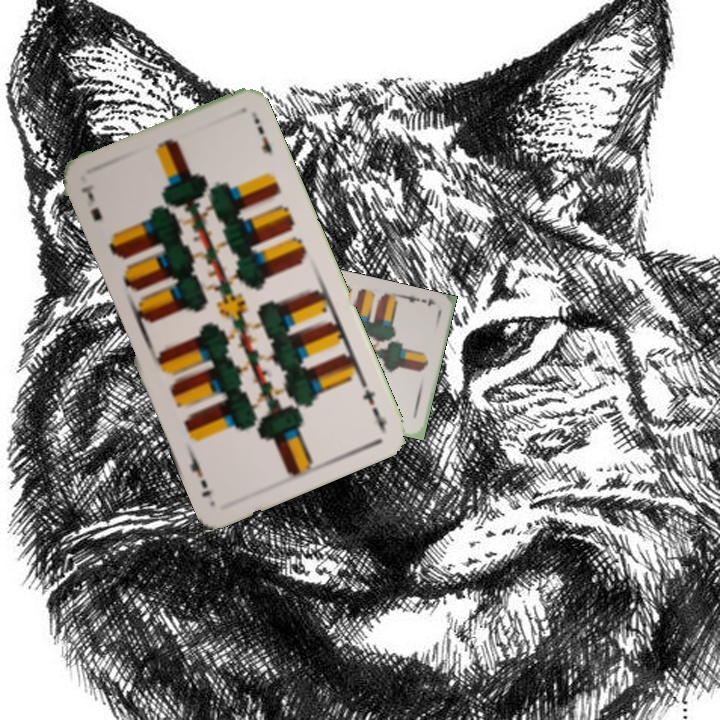E7: (357, 375, 390, 432), (78, 181, 105, 224), (399, 291, 439, 309)
